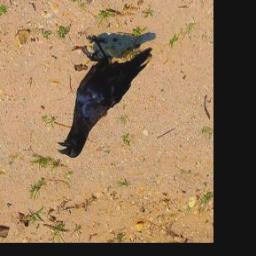Crow: (57, 36, 151, 159)
